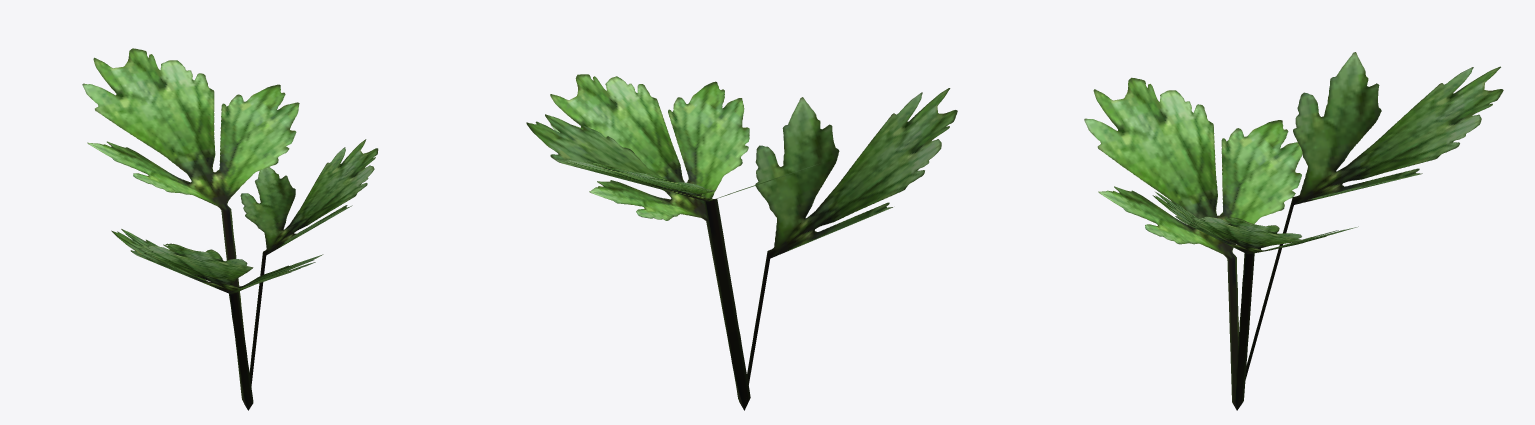
File: MK4_Trop_Plant5.DAE
The picture shows the model from 3 angles, left to right: view 1: azimuth 30°, elevation 25°; view 2: azimuth 150°, elevation 25°; view 3: azimuth 270°, elevation 25°; orthographic projection. The views are drawn at different scales.
Parts seen in each view (by area): view 1: MK4_Trop_Plant5; view 2: MK4_Trop_Plant5; view 3: MK4_Trop_Plant5.
Part boxes in pixels (x1=…): MK4_Trop_Plant5: x1=82, y1=48, x2=378, y2=410; MK4_Trop_Plant5: x1=526, y1=74, x2=957, y2=410; MK4_Trop_Plant5: x1=1084, y1=52, x2=1503, y2=410.
Size of the model in its own units: 0.4608 by 0.5158 by 0.3749.
